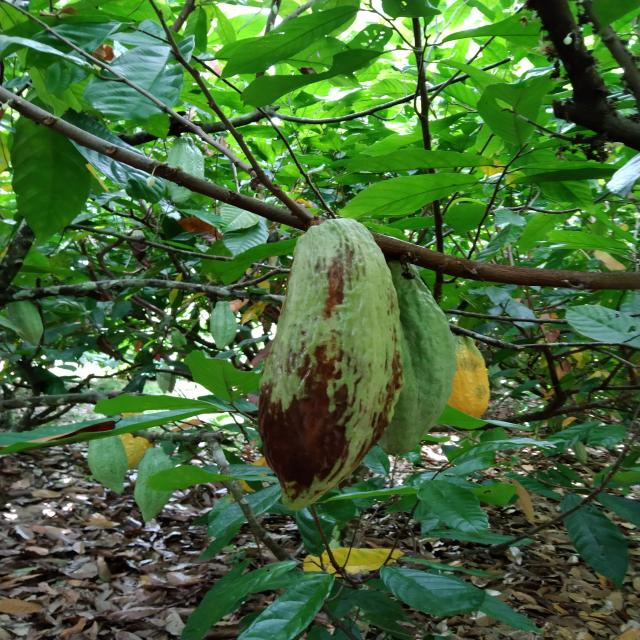Fitoftora: (257, 220, 405, 510)
Sana: (369, 256, 454, 456), (442, 331, 493, 428)
